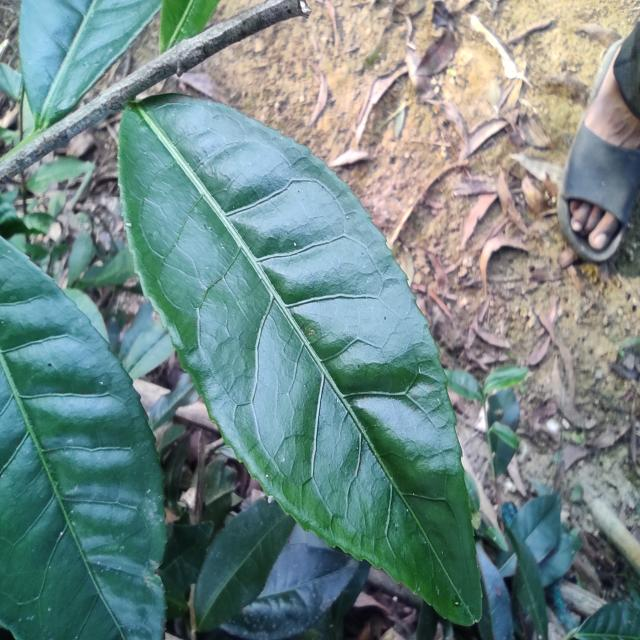Category D(7+ days, Not for Tea): (99, 73, 517, 640)
